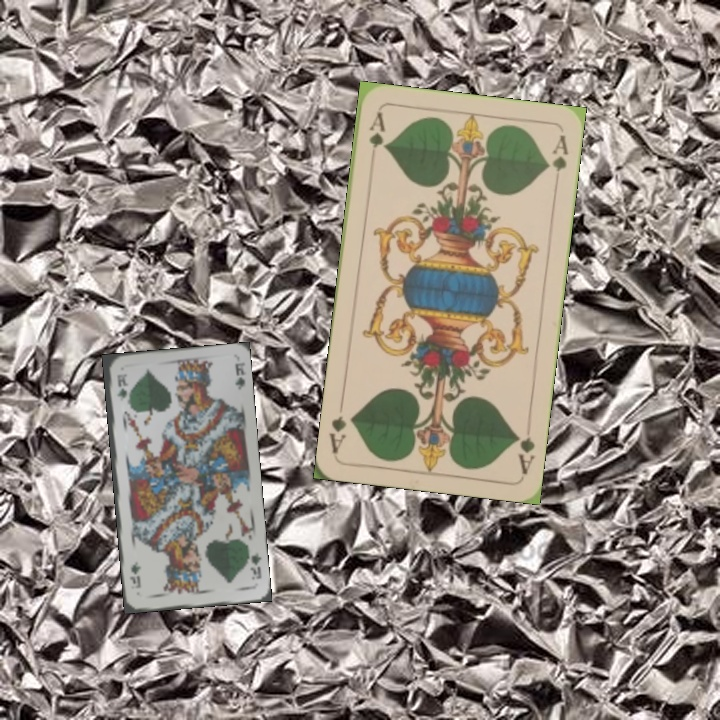GA: (365, 108, 388, 166), (511, 428, 537, 477)
GK: (246, 548, 264, 582), (113, 370, 128, 403)
